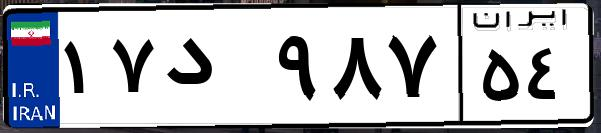1: (57, 26, 110, 100)
4: (525, 38, 570, 115)
5: (475, 38, 525, 113)
7: (385, 28, 445, 110), (110, 28, 158, 98)
8: (330, 28, 385, 110)
9: (270, 28, 330, 110)
د: (158, 20, 270, 120)
